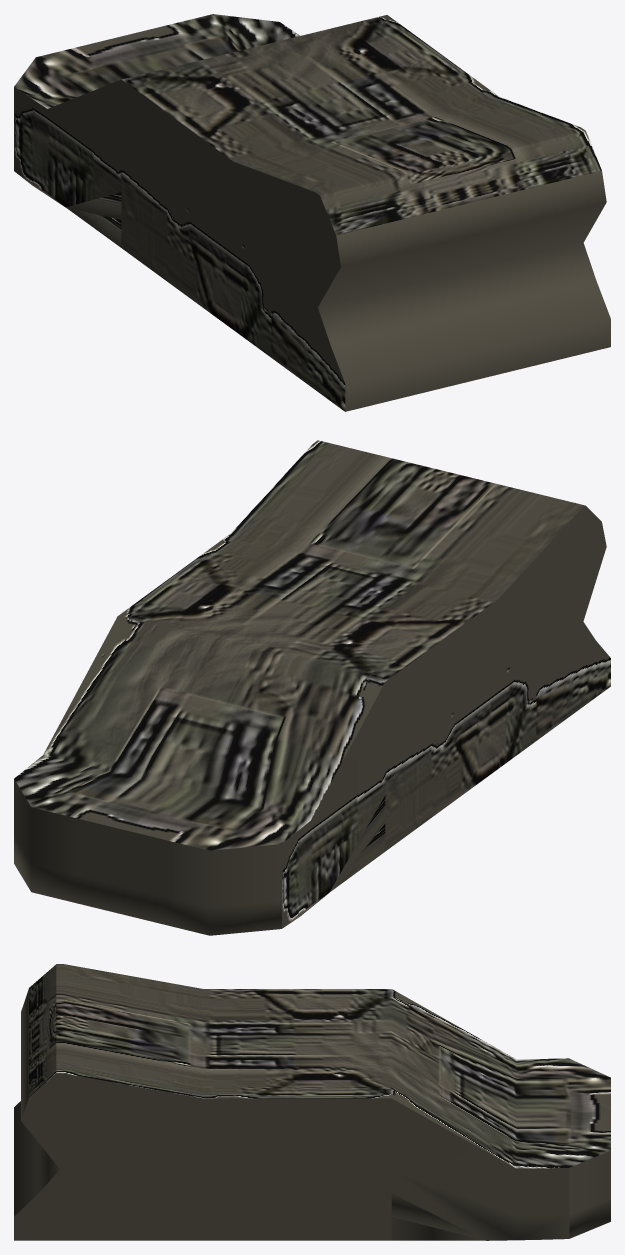
File: alienground 1.FBX
The picture shows the model from 3 angles, top to bottom: view 1: azimuth 30°, elevation 25°; view 2: azimuth 150°, elevation 25°; view 3: azimuth 270°, elevation 25°; orthographic projection. The views are drawn at different scales.
Visible parts, largest first — view 1: Box002; view 2: Box002; view 3: Box002.
Part boxes in pixels (box(x1,y1,x2,y2)): Box002: box(14, 14, 610, 411); Box002: box(14, 440, 610, 935); Box002: box(14, 964, 610, 1240).
Bounding box in the file's own units: 42.03 × 96.03 × 29.7.
Materials: 1 (1 with a texture image).
